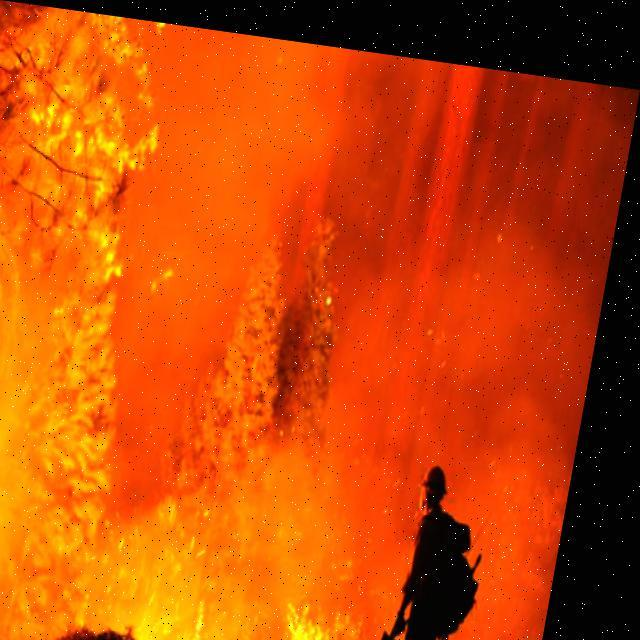Fire: (0, 1, 183, 302), (105, 491, 413, 639)
